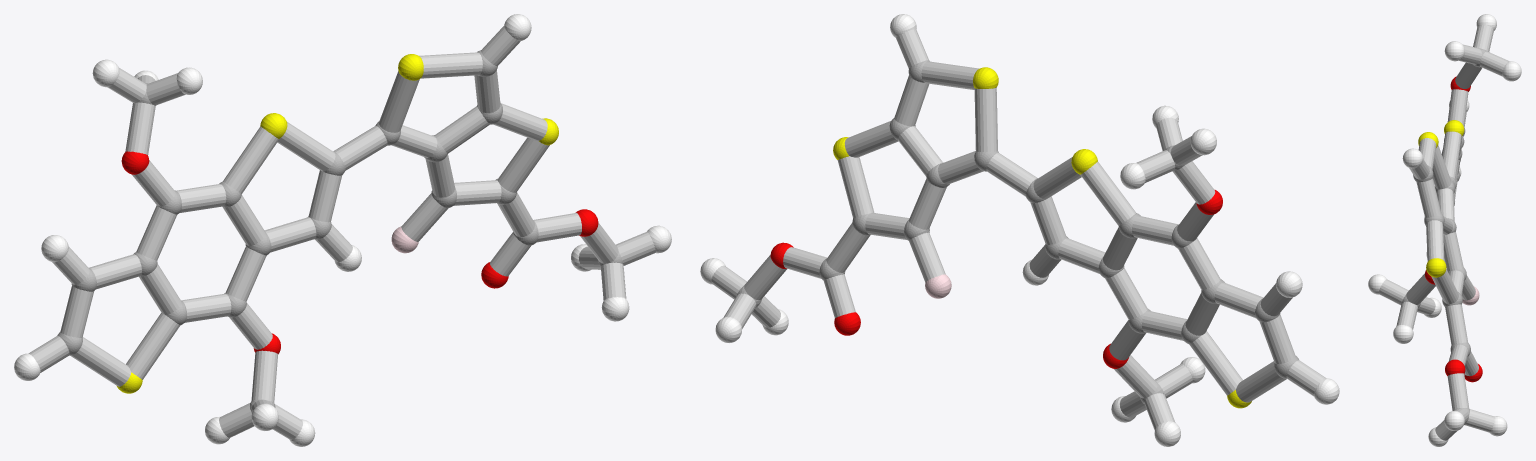
File: color.glb
The picture shows the model from 3 angles, left to right: view 1: azimuth 30°, elevation 25°; view 2: azimuth 150°, elevation 25°; view 3: azimuth 270°, elevation 25°; orthographic projection. The views are drawn at different scales.
Visible parts, largest first — view 1: grp15205, grp8689, grp1, grp7241, grp13395; view 2: grp15205, grp8689, grp1, grp13395, grp7241; view 3: grp15205, grp8689, grp1, grp7241, grp13395.
Part boxes in pixels (x1=…): grp15205: x1=28, y1=26, x2=655, y2=439; grp8689: x1=14, y1=14, x2=671, y2=446; grp1: x1=57, y1=50, x2=622, y2=410; grp7241: x1=117, y1=54, x2=558, y2=393; grp13395: x1=121, y1=151, x2=598, y2=354; grp15205: x1=711, y1=29, x2=1325, y2=430; grp8689: x1=700, y1=14, x2=1339, y2=446; grp1: x1=737, y1=60, x2=1298, y2=403; grp13395: x1=770, y1=190, x2=1222, y2=368; grp7241: x1=833, y1=67, x2=1251, y2=408; grp15205: x1=1379, y1=25, x2=1509, y2=440; grp8689: x1=1368, y1=14, x2=1521, y2=446; grp1: x1=1402, y1=48, x2=1487, y2=424; grp7241: x1=1418, y1=120, x2=1464, y2=277; grp13395: x1=1425, y1=76, x2=1482, y2=382.
Bounding box in the file's own units: 16.44 × 9.03 × 4.51.
